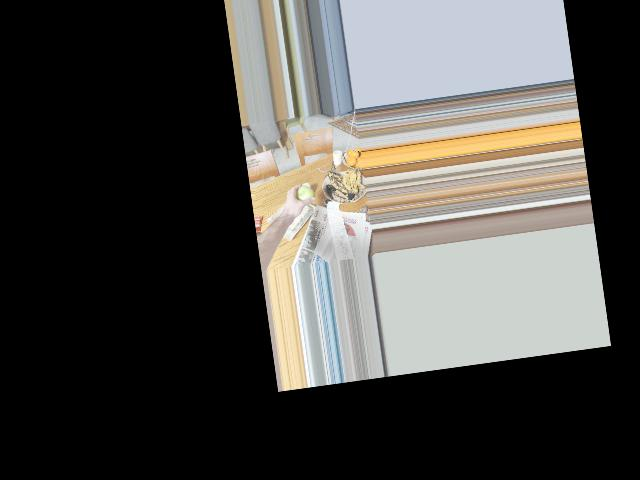apple: (292, 184, 315, 205)
